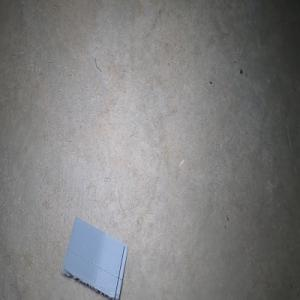PlasticPart: (60, 216, 128, 300)
